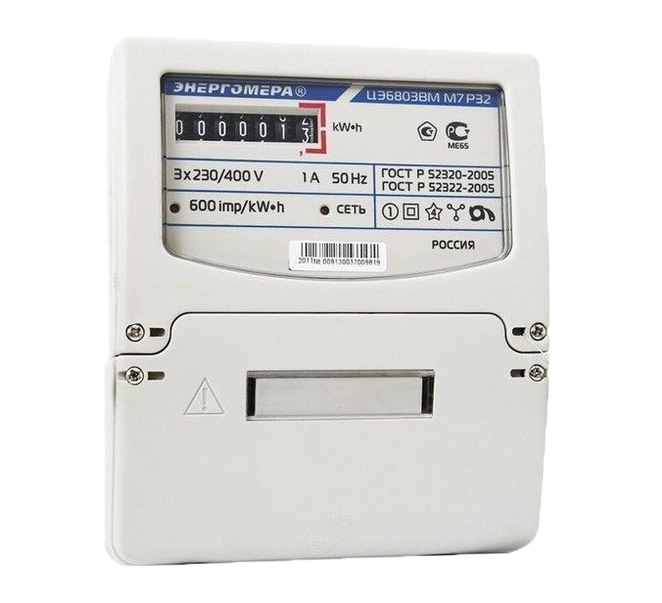counter: (96, 27, 557, 568)
counter_screen: (170, 100, 325, 153)
